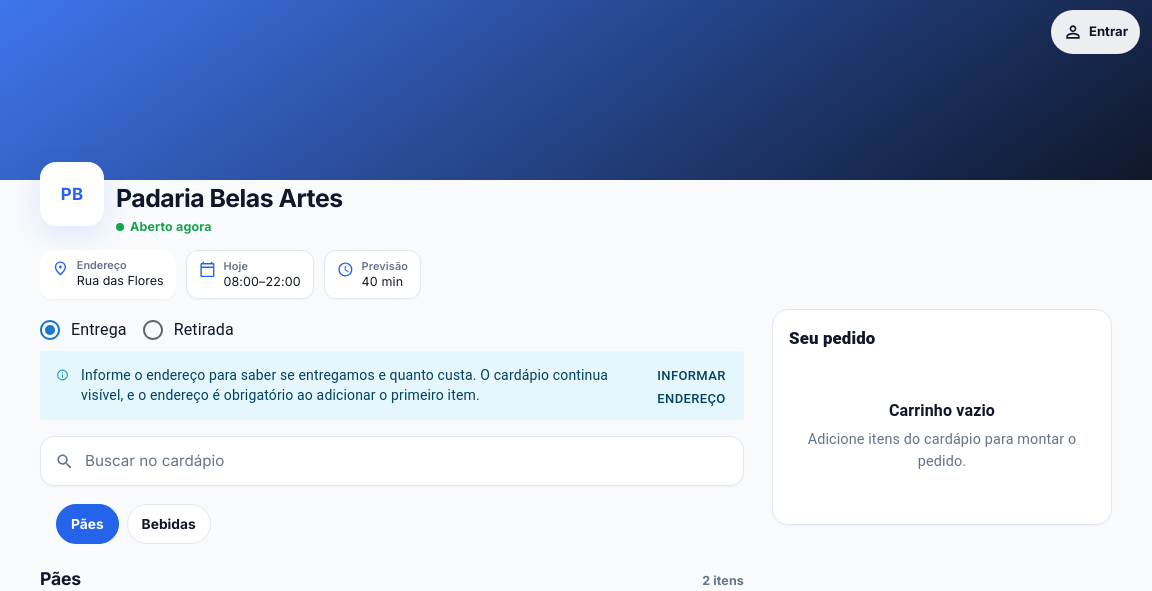
Test: PublicDelivery › mostra o endereço da loja quando o cliente escolhe retirada
The width and height of the screenshot is (1152, 591).
Check: the text "Informe o endereço para saber se entregamos" is shown, box [81,367,608,403]
Check: the text "retire neste endereço" is not shown
Click the radio button labelled "Retirada" at (187, 330), box [141,318,234,342]
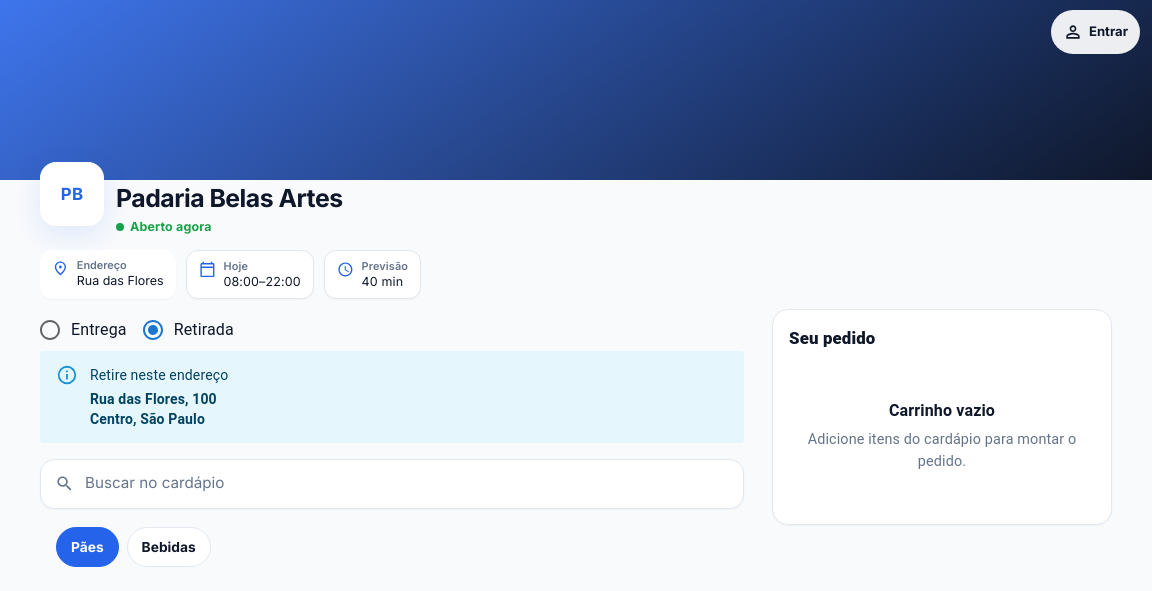
Check: the text "Retire neste endereço Rua das Flores, 100 Centro, São Paulo" is shown, box [90,357,228,437]
Check: the text "Rua das Flores, 100 Centro, São Paulo" is shown, box [90,389,228,429]
Click the radio button labelled "Entrega" at (82, 330), box [38,318,127,342]
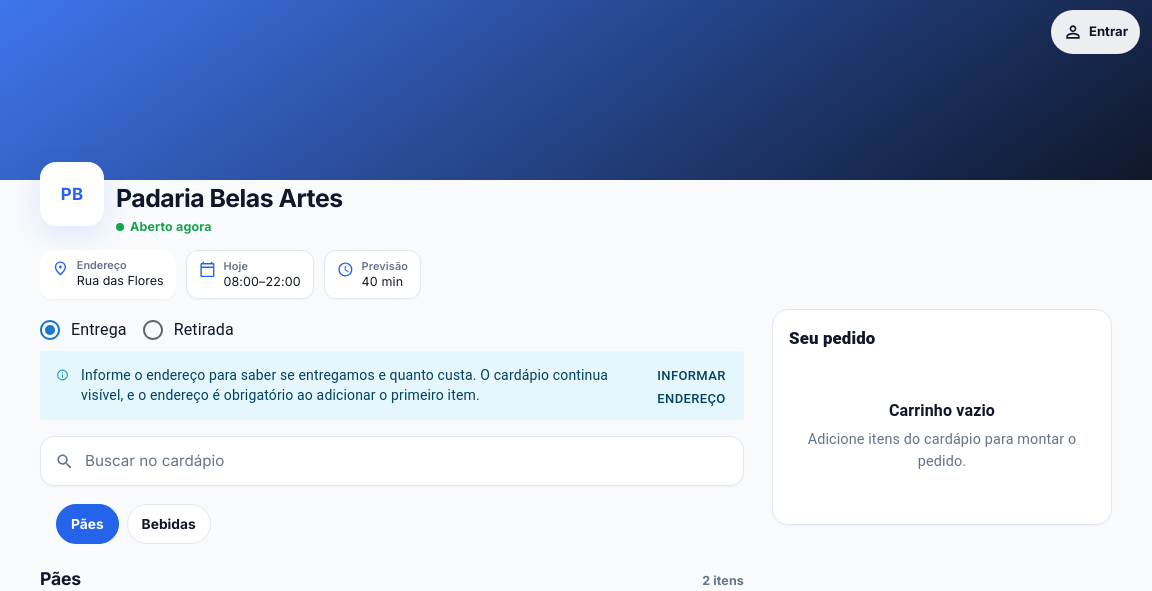
Check: the text "Retire neste endereço" is gone
